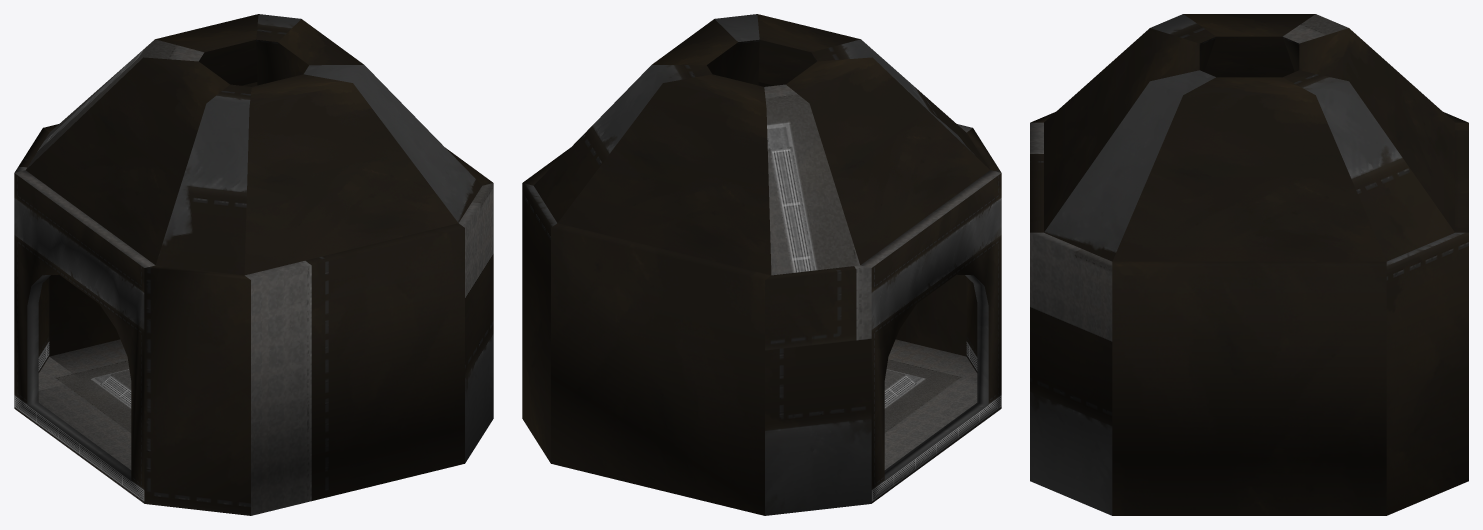
File: SM_StartRoom.fbx
3 views of the same model, side by side, from view 1: azimuth 30°, elevation 25°; view 2: azimuth 150°, elevation 25°; view 3: azimuth 270°, elevation 25° (orthographic). The views are drawn at different scales.
Visible parts, largest first — view 1: StartRoom.001; view 2: StartRoom.001; view 3: StartRoom.001.
Boxes of the visible parts, box(x1,y1,x2,y2) form: StartRoom.001: box(14, 14, 493, 515); StartRoom.001: box(522, 14, 1001, 515); StartRoom.001: box(1030, 14, 1468, 515).
Size of the model in its own units: 3.1 by 2.99 by 3.2.
